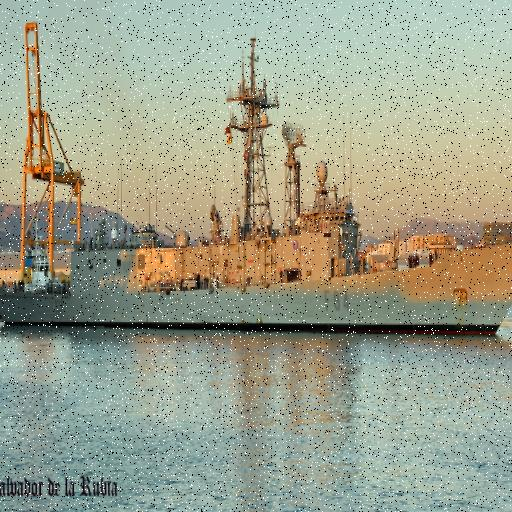Fragata: (1, 36, 512, 343)
